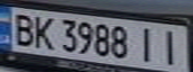3: (54, 16, 78, 53)
8: (109, 22, 133, 61), (90, 20, 112, 57)
9: (75, 19, 93, 55)
B: (6, 10, 36, 47)
I: (154, 26, 187, 66), (133, 25, 163, 64)
K: (30, 12, 57, 51)
